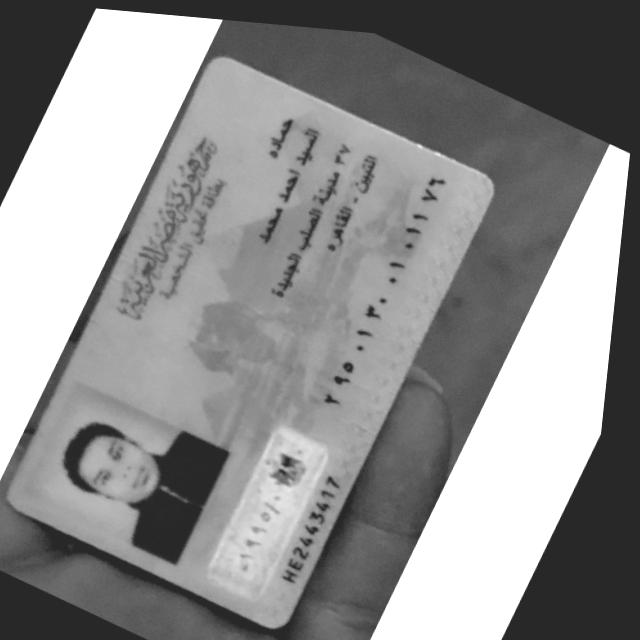id_card: (7, 57, 492, 628)
